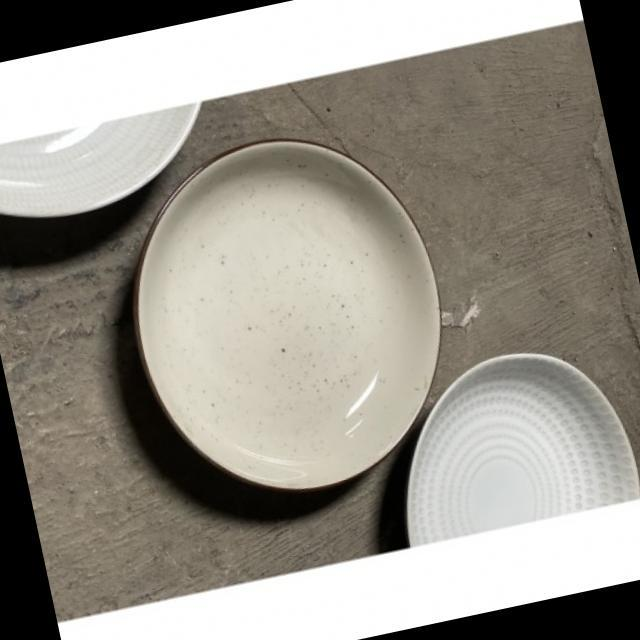plate: (86, 101, 487, 534)
